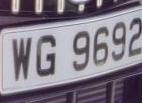2: (126, 15, 142, 59)
6: (89, 22, 110, 70)
9: (70, 26, 92, 76), (109, 20, 128, 65)
G: (34, 28, 59, 84)
W: (8, 32, 36, 83)
